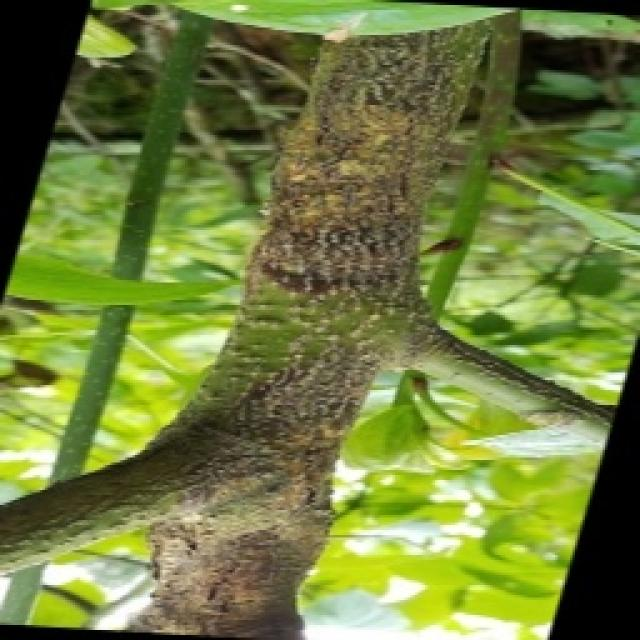Chlorosis: (0, 8, 620, 638)
